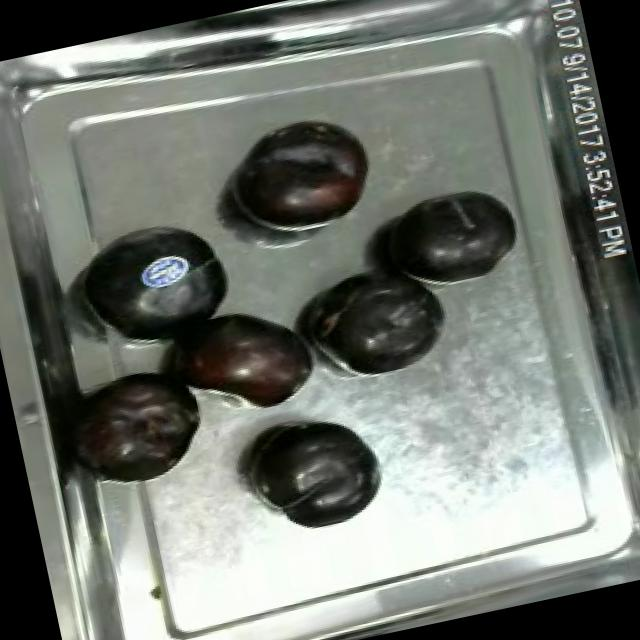Fruit: (71, 204, 247, 355), (162, 289, 327, 430), (236, 400, 392, 541), (222, 116, 384, 245), (62, 366, 222, 495), (371, 175, 529, 295), (310, 257, 454, 383)
